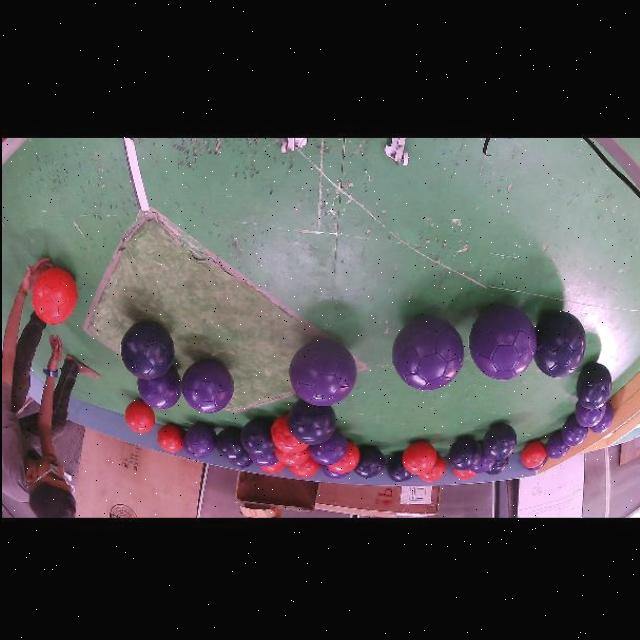B: (534, 312, 585, 378), (119, 321, 172, 379), (286, 400, 335, 445), (575, 362, 610, 410), (239, 418, 274, 457), (482, 423, 515, 460), (447, 436, 481, 470), (214, 427, 243, 461), (353, 446, 383, 478), (386, 452, 412, 482), (485, 457, 507, 476), (228, 452, 251, 468)
P: (391, 317, 463, 390), (468, 305, 535, 379), (288, 340, 356, 406), (180, 359, 233, 413), (135, 366, 180, 410), (307, 429, 346, 465), (184, 423, 214, 456), (560, 414, 587, 446), (573, 402, 605, 428), (589, 402, 613, 433), (469, 446, 494, 474), (544, 431, 568, 460), (180, 434, 203, 460), (247, 452, 276, 466), (320, 465, 348, 479), (525, 457, 547, 472)
R: (31, 267, 76, 325), (269, 415, 307, 454), (401, 441, 436, 474), (123, 400, 154, 433), (327, 442, 358, 473), (519, 440, 546, 469), (418, 454, 445, 482), (156, 424, 181, 452), (288, 457, 319, 478), (272, 449, 308, 466), (258, 461, 284, 474), (452, 469, 476, 479)
